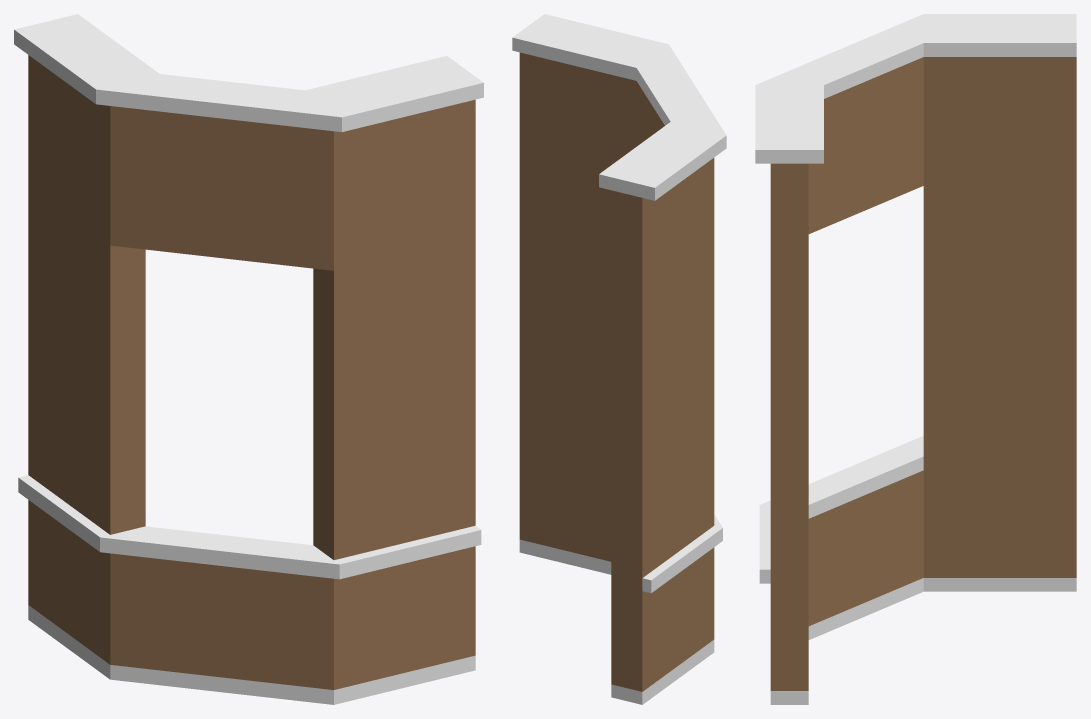
File: SM_4x4m_Window_BevelCorner.fbx
3 views of the same model, side by side, from view 1: azimuth 30°, elevation 25°; view 2: azimuth 150°, elevation 25°; view 3: azimuth 270°, elevation 25° (orthographic). The views are drawn at different scales.
Parts seen in each view (by area): view 1: SM_4x4m_Window_BevelCorner.002; view 2: SM_4x4m_Window_BevelCorner.002; view 3: SM_4x4m_Window_BevelCorner.002.
Part boxes in pixels (x1,y1,x2,y2): SM_4x4m_Window_BevelCorner.002: (14, 14, 483, 704); SM_4x4m_Window_BevelCorner.002: (512, 14, 726, 704); SM_4x4m_Window_BevelCorner.002: (755, 14, 1076, 704).
Size of the model in its own units: 210 by 210 by 400.
